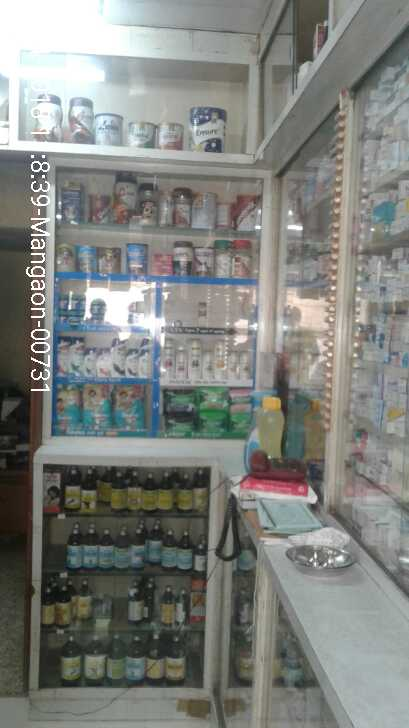vicks: (56, 288, 118, 331)
